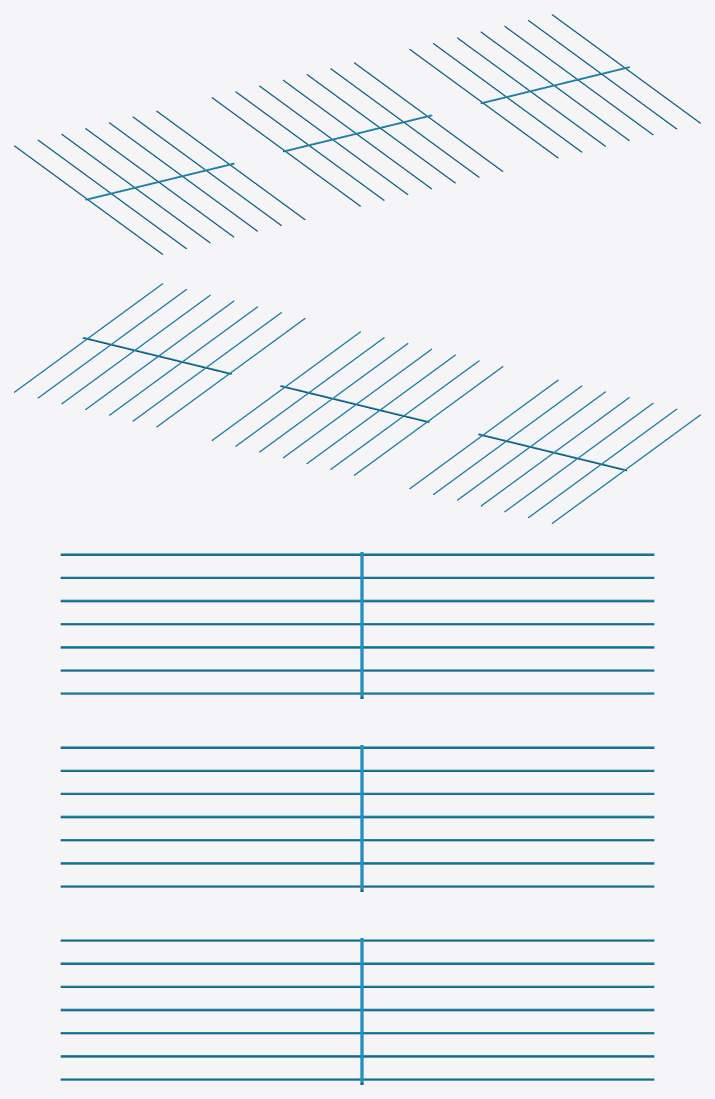
File: 32_PS_Table_GlassStageProjectionVolume.fbx
3 views of the same model, one above another, from view 1: azimuth 30°, elevation 25°; view 2: azimuth 150°, elevation 25°; view 3: azimuth 270°, elevation 25° (orthographic). The views are drawn at different scales.
Visible parts, largest first — view 1: PS_Table_GlassStageProjectionVolume; view 2: PS_Table_GlassStageProjectionVolume; view 3: PS_Table_GlassStageProjectionVolume.
Part boxes in pixels (<box>): PS_Table_GlassStageProjectionVolume: <box>14,14,700,254</box>; PS_Table_GlassStageProjectionVolume: <box>14,283,700,523</box>; PS_Table_GlassStageProjectionVolume: <box>60,552,654,1084</box>.
Bounding box in the file's own units: 825 × 1.6 × 390.
